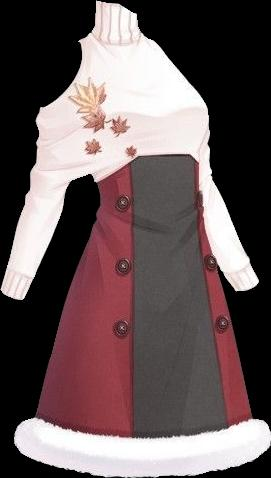Bodice: (79, 2, 208, 182)
Hemline: (13, 441, 270, 477)
Neckline: (91, 30, 144, 46), (96, 0, 138, 15)
Skirt: (14, 157, 270, 476)
Sleeve: (1, 46, 88, 299)
Sleeveline: (80, 42, 92, 178), (4, 266, 35, 280)
Waistline: (34, 413, 255, 440), (96, 153, 201, 183)
